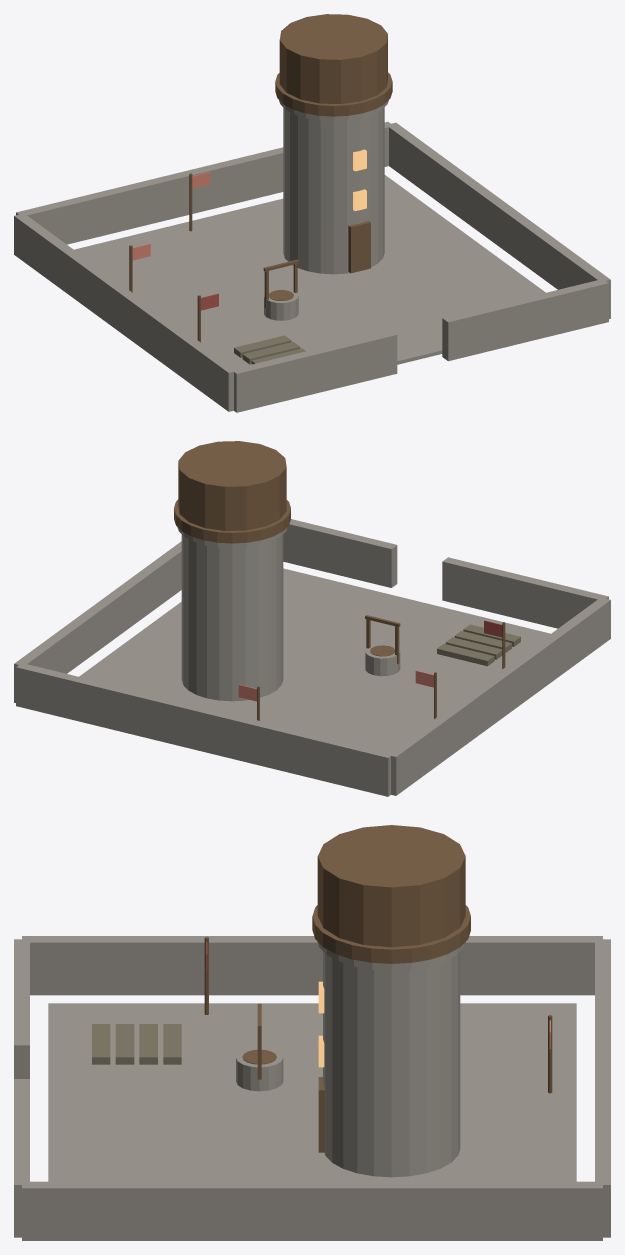
3 renders of one model, top to bottom at view 1: azimuth 30°, elevation 25°; view 2: azimuth 150°, elevation 25°; view 3: azimuth 270°, elevation 25°, orthographic. The views are drawn at different scales.
Visible parts, largest first — view 1: walk_rect, tower_body, cy_wall.002, cy_wall.001, cy_wall, lantern_cage, cy_wall.004, cy_wall.003, lantern_base, tower_door, well_ring, tower_ring; view 2: walk_rect, cy_wall.002, tower_body, cy_wall.001, lantern_cage, cy_wall, cy_wall.003, cy_wall.004, lantern_base, well_ring, veg_bed.003, tower_ring (+2 smaller); view 3: walk_rect, cy_wall, tower_body, cy_wall.001, lantern_cage, cy_wall.002, lantern_base, cy_wall.003, cy_wall.004, well_ring, tower_ring, veg_bed.001 (+3 smaller).
Part boxes in pixels (<box>): walk_rect: <box>74,175,545,368</box>; tower_body: <box>283,107,384,274</box>; cy_wall.002: <box>16,121,390,244</box>; cy_wall.001: <box>14,214,237,411</box>; cy_wall: <box>386,122,610,318</box>; lantern_cage: <box>279,14,387,103</box>; cy_wall.004: <box>442,279,608,361</box>; cy_wall.003: <box>232,330,397,412</box>; lantern_base: <box>275,72,392,116</box>; tower_door: <box>348,220,370,273</box>; well_ring: <box>264,288,298,320</box>; tower_ring: <box>279,100,388,121</box>; walk_rect: <box>79,568,550,752</box>; cy_wall.002: <box>16,664,392,796</box>; tower_body: <box>181,534,283,701</box>; cy_wall.001: <box>387,597,610,795</box>; lantern_cage: <box>178,441,286,530</box>; cy_wall: <box>14,541,181,702</box>; cy_wall.003: <box>442,557,608,628</box>; cy_wall.004: <box>283,519,397,587</box>; lantern_base: <box>174,499,290,543</box>; well_ring: <box>365,644,400,676</box>; veg_bed.003: <box>437,644,494,666</box>; tower_ring: <box>177,527,287,548</box>; walk_rect: <box>48,1003,576,1181</box>; cy_wall: <box>22,1181,602,1240</box>; tower_body: <box>323,951,460,1177</box>; cy_wall.001: <box>22,936,602,995</box>; lantern_cage: <box>317,825,465,947</box>; cy_wall.002: <box>595,939,610,1237</box>; lantern_base: <box>312,905,470,963</box>; cy_wall.003: <box>14,939,29,1078</box>; cy_wall.004: <box>14,1079,29,1237</box>; well_ring: <box>236,1047,283,1091</box>; tower_ring: <box>317,941,465,970</box>; veg_bed.001: <box>115,1024,134,1064</box>.
Size of the model in its own units: 22.6 by 12.4 by 22.6.
